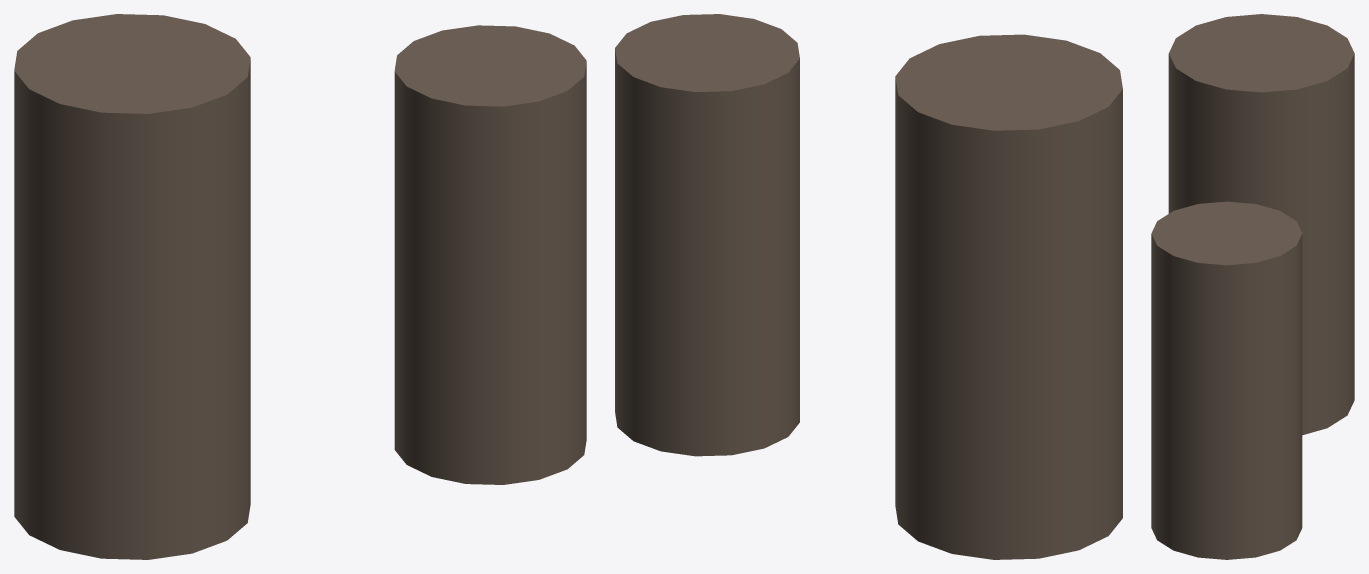
Rendered from hd2d_market_prop_barrels.glb.
3 renders of one model, left to right at view 1: azimuth 30°, elevation 25°; view 2: azimuth 150°, elevation 25°; view 3: azimuth 270°, elevation 25°, orthographic. The views are drawn at different scales.
Parts seen in each view (by area): view 1: BarrelA, BarrelB; view 2: BarrelA, BarrelB; view 3: BarrelB, BarrelA.
Part boxes in pixels (box(x1,y1,x2,y2)): BarrelA: box(14, 14, 250, 559); BarrelB: box(394, 25, 586, 484); BarrelA: box(895, 34, 1122, 559); BarrelB: box(615, 14, 799, 456); BarrelB: box(1151, 201, 1302, 559); BarrelA: box(1168, 14, 1354, 435).
Size of the model in its own units: 0.81 by 0.66 by 0.35.
